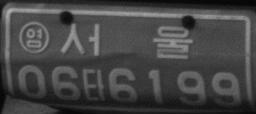0: (16, 63, 47, 99)
1: (141, 68, 170, 105)
6: (107, 66, 138, 104), (50, 65, 81, 101)
9: (210, 70, 242, 107), (176, 69, 207, 107)
서울_D: (59, 23, 194, 60)
영: (18, 20, 50, 55)
타: (82, 67, 106, 103)
